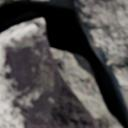brick: (0, 19, 98, 127), (70, 0, 127, 123)
crack: (0, 0, 127, 127)
